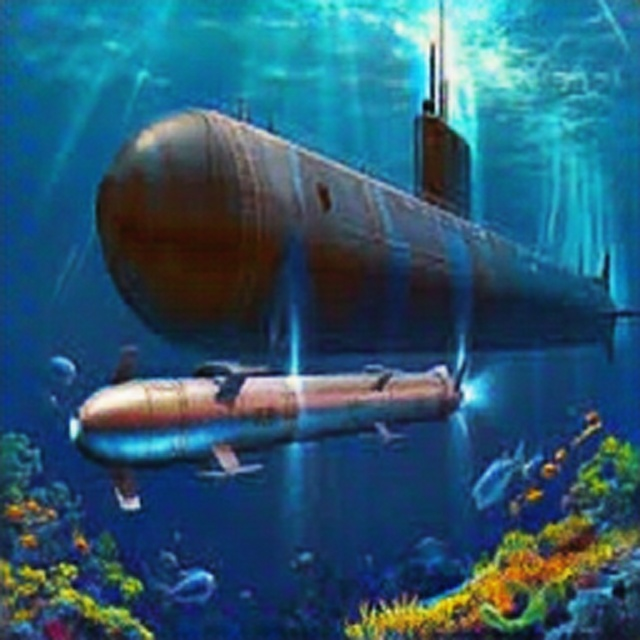submarine: (96, 46, 627, 366), (78, 357, 474, 512)
